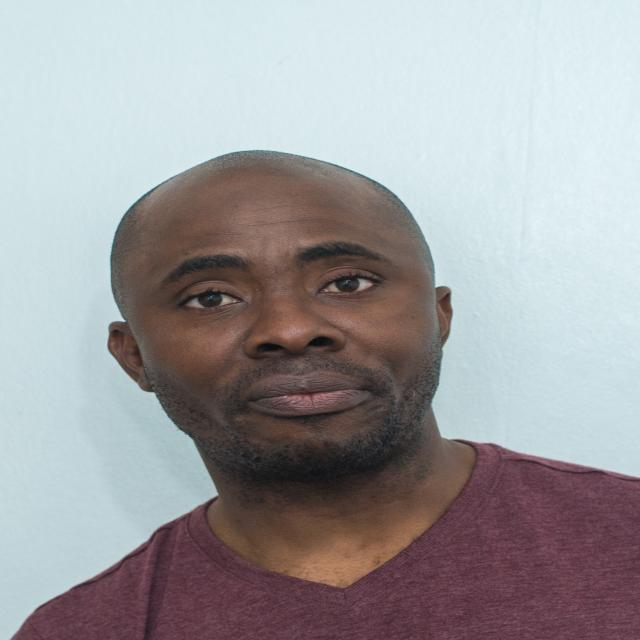happy: (93, 145, 476, 479), (456, 465, 480, 491), (90, 143, 110, 143)
